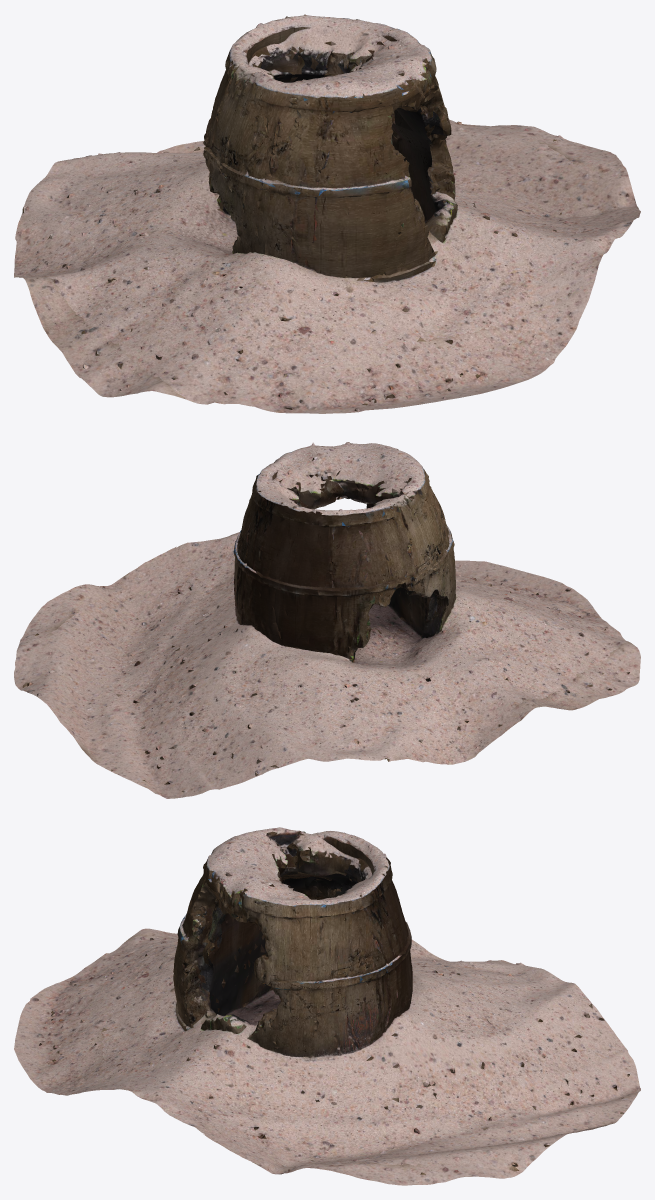
File: singlebarrel.gltf
3 views of the same model, one above another, from view 1: azimuth 30°, elevation 25°; view 2: azimuth 150°, elevation 25°; view 3: azimuth 270°, elevation 25° (orthographic). The views are drawn at different scales.
Visible parts, largest first — view 1: singlebarrel; view 2: singlebarrel; view 3: singlebarrel.
Part boxes in pixels (bbox=[...]): singlebarrel: bbox=[14, 14, 640, 413]; singlebarrel: bbox=[14, 442, 640, 798]; singlebarrel: bbox=[14, 827, 640, 1185].
Bounding box in the file's own units: 28.03 × 11.17 × 28.18.
1 material, 1 textured.
